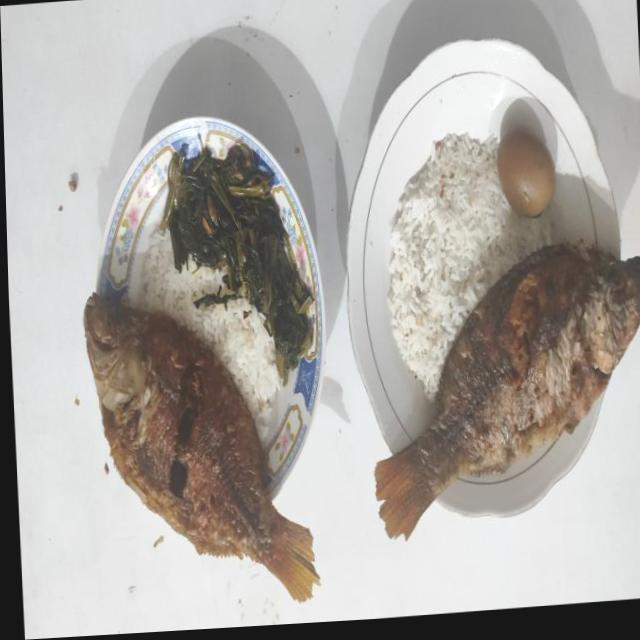ikan_mujair: (375, 241, 640, 537), (84, 294, 319, 602)
nasi_putih: (387, 132, 551, 399), (139, 233, 283, 438)
tumis_kangkung: (160, 142, 314, 385)
